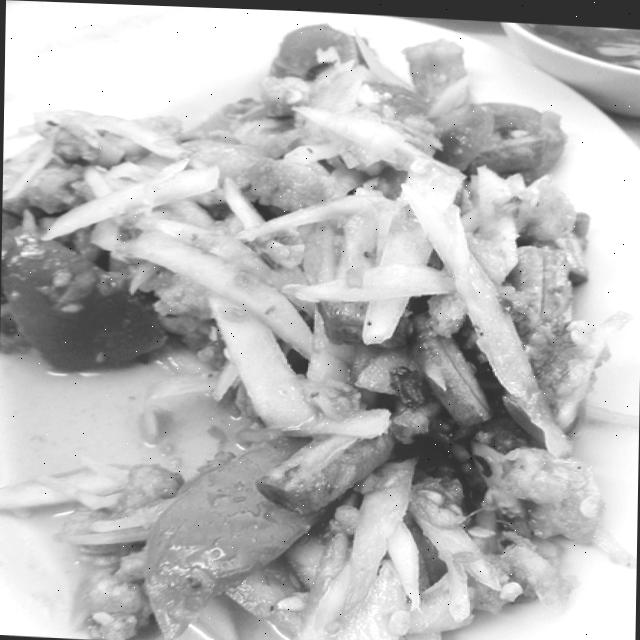蔬菜料理: (16, 5, 614, 640)
